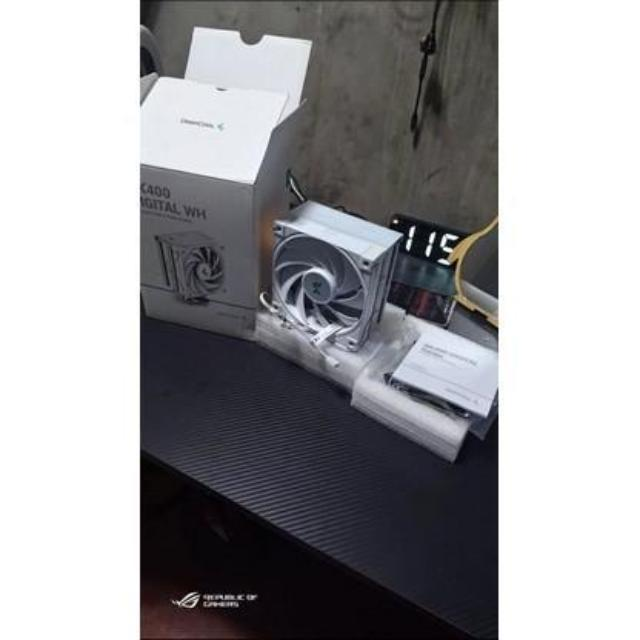CPU_Fan: (270, 200, 398, 354)
